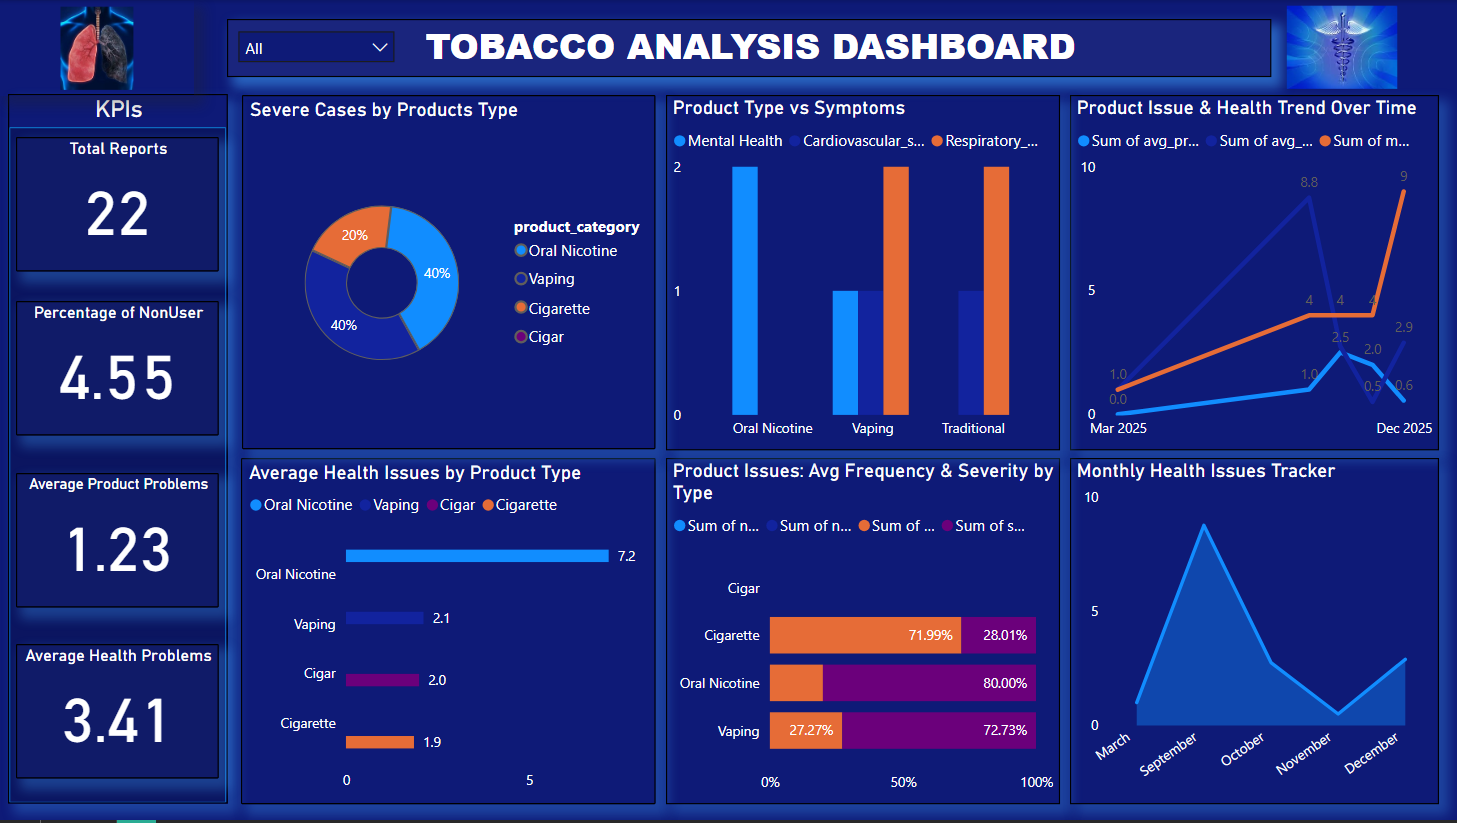

What the dashboard file says about the page in this screenshot:
{"tool":"powerbi","page":{"name":"Page 1","canvas":[1280,720],"ordinal":0},"visuals":[{"type":"textbox","title":"TOBACCO ANALYSIS DASHBOARD","box":[200.4,16.5,917.2,50.6],"z":0},{"type":"shape","title":"KPIs","box":[7.8,82.7,192.6,623.5],"z":1000},{"type":"kpi","title":"Percentage of NonUser","fields":{"TrendLine":["overall summary.total_reports"],"Indicator":["Sum(overall summary.nonuser_percentage)"]},"box":[14.6,264.6,178,117.7],"z":2000},{"type":"kpi","title":"Average Product Problems","fields":{"TrendLine":["overall summary.total_reports"],"Indicator":["Sum(overall summary.avg_product_problems)"]},"box":[14.6,415.3,178,117.7],"z":3000},{"type":"kpi","title":"Average Health Problems","fields":{"TrendLine":["overall summary.total_reports"],"Indicator":["Sum(overall summary.avg_health_problems)"]},"box":[14.6,565.1,178,117.7],"z":4000},{"type":"kpi","title":"Total Reports","fields":{"TrendLine":["overall summary.total_reports"],"Indicator":["overall summary.Total report"]},"box":[14.6,120.6,178,117.7],"z":5000},{"type":"image","box":[0,0.9,171.2,82.5],"z":6000},{"type":"clusteredBarChart","title":"Average Health Issues by Product  Type","fields":{"Category":["Product category breakdown.product_category"],"Y":["Sum(Product category breakdown.avg_health_issues)"],"Series":["Product category breakdown.product_category"]},"box":[212.5,402.1,363.5,303.8],"z":7000},{"type":"lineChart","title":"Product Issue & Health Trend Over Time","fields":{"Y":["Sum(time trend analysis.avg_product_issues)","Sum(time trend analysis.avg_health_issues)","Sum(time trend analysis.monthly_reports)"],"Category":["time trend analysis.report_month.Variation.Date Hierarchy.Year","time trend analysis.report_month.Variation.Date Hierarchy.Quarter","time trend analysis.report_month.Variation.Date Hierarchy.Month","time trend analysis.report_month.Variation.Date Hierarchy.Day"]},"box":[940.4,83.4,324,311.7],"z":8000},{"type":"donutChart","title":"Severe Cases by Products Type","fields":{"Category":["Product category breakdown.product_category"],"Y":["Sum(Product category breakdown.severe_cases)"]},"box":[213.4,83.4,362.6,310.8],"z":9000},{"type":"hundredPercentStackedBarChart","title":"Product Issues: Avg Frequency & Severity by Type","fields":{"Y":["Sum(correlation analysis.number_health_problems)","Sum(correlation analysis.number_product_problems)","Sum(Product category breakdown.avg_product_issues)","Sum(Product category breakdown.severe_cases)"],"Category":["Product category breakdown.product_category"]},"box":[585.7,402.1,346,303.8],"z":10000},{"type":"stackedAreaChart","title":"Monthly Health Issues Tracker","fields":{"Category":["time trend analysis.report_month.Variation.Date Hierarchy.Month"],"Y":["Sum(time trend analysis.avg_health_issues)"]},"box":[940.4,402.1,324,303.8],"z":11000},{"type":"clusteredColumnChart","title":"Product Type vs Symptoms","fields":{"Category":["product type vs symptoms category.product_type"],"Y":["product type vs symptoms category.Mental Health","product type vs symptoms category.Cardiovascular_symptoms","product type vs symptoms category.Respiratory_symptoms"]},"box":[585.5,83.6,346.3,312.2],"z":12000},{"type":"image","box":[1117.8,0,122.9,83.4],"z":13000},{"type":"slicer","fields":{"Values":["Product category breakdown.product_category","Product category breakdown.avg_product_issues","Product category breakdown.avg_health_issues"]},"box":[200.2,17.6,157.2,48.3],"z":13001}]}

Visuals, with their boxes in screenshot pixels (x1, y1, x2, y2), scaled from the page's 1280x720 canvas onto the 1457x823 screenshot:
"TOBACCO ANALYSIS DASHBOARD" textbox: bbox=[228, 19, 1272, 77]
"KPIs" shape: bbox=[9, 95, 228, 807]
"Percentage of NonUser" kpi: bbox=[17, 302, 219, 437]
"Average Product Problems" kpi: bbox=[17, 475, 219, 609]
"Average Health Problems" kpi: bbox=[17, 646, 219, 780]
"Total Reports" kpi: bbox=[17, 138, 219, 272]
image: bbox=[0, 1, 195, 95]
"Average Health Issues by Product  Type" clusteredBarChart: bbox=[242, 460, 656, 807]
"Product Issue & Health Trend Over Time" lineChart: bbox=[1070, 95, 1439, 452]
"Severe Cases by Products Type" donutChart: bbox=[243, 95, 656, 451]
"Product Issues: Avg Frequency & Severity by Type" hundredPercentStackedBarChart: bbox=[667, 460, 1061, 807]
"Monthly Health Issues Tracker" stackedAreaChart: bbox=[1070, 460, 1439, 807]
"Product Type vs Symptoms" clusteredColumnChart: bbox=[666, 96, 1061, 452]
image: bbox=[1272, 0, 1412, 95]
slicer - Product category breakdown.product_category x Product category breakdown.avg_product_issues: bbox=[228, 20, 407, 75]
